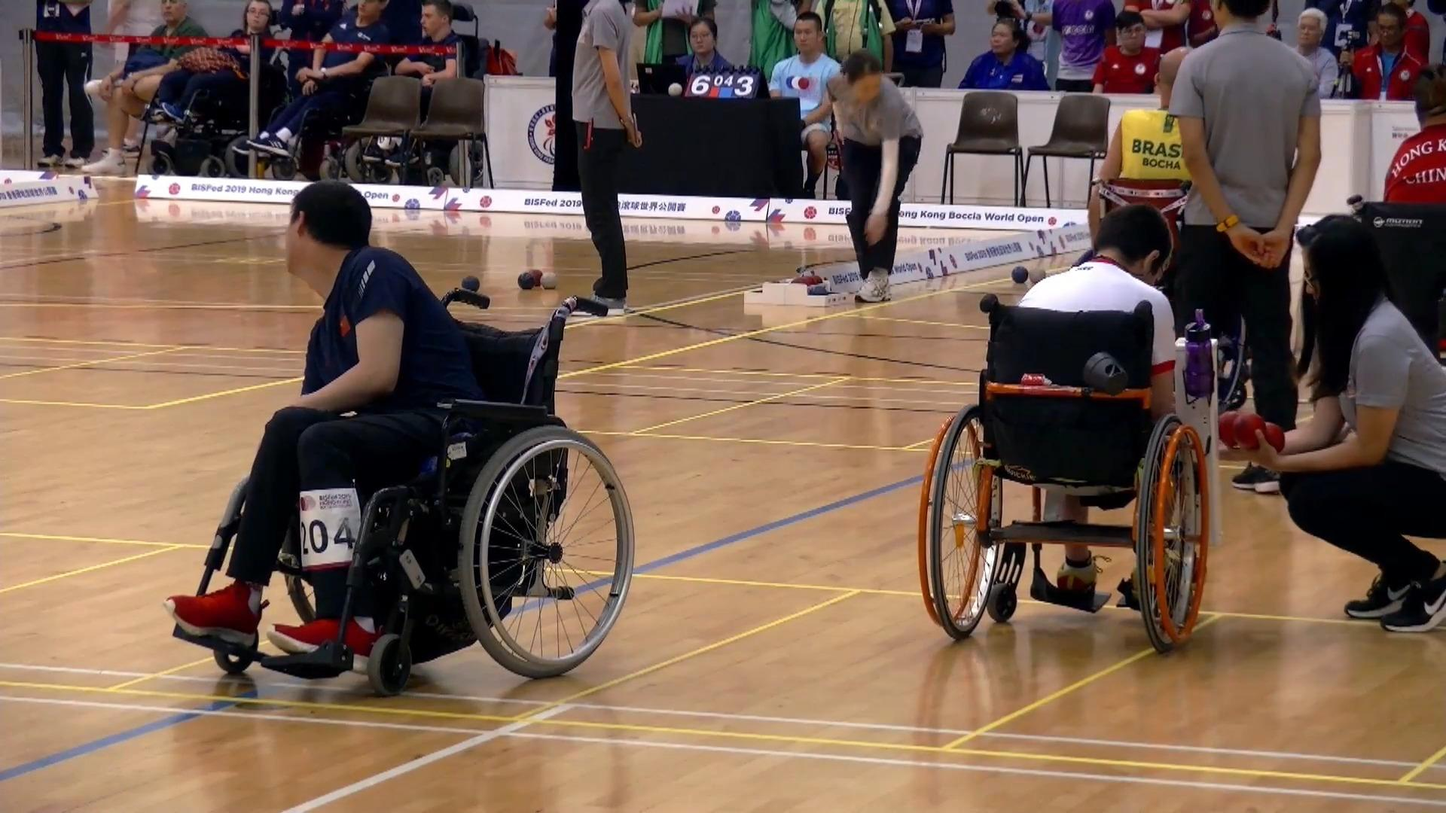blue_ball: (517, 270, 536, 292), (461, 275, 481, 294), (1011, 265, 1029, 285)
red_ball: (1234, 411, 1267, 451)
white_ball: (541, 270, 558, 290), (1030, 266, 1047, 285)
